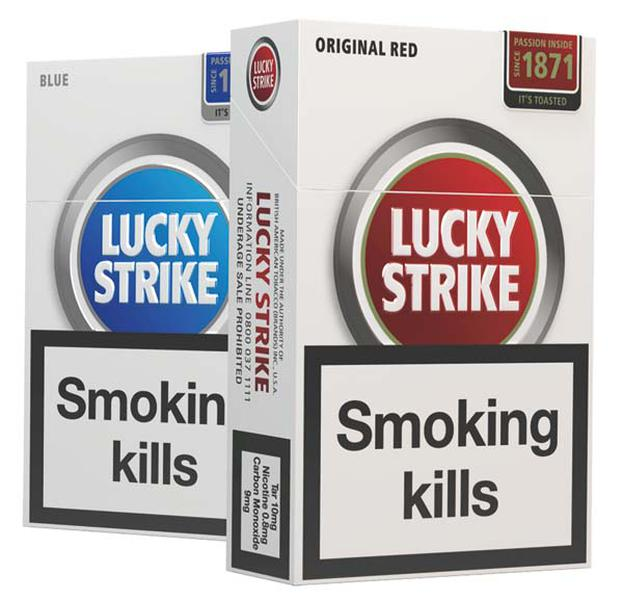lucky_strike_blue: (25, 61, 229, 529)
lucky_strike_red: (297, 36, 589, 564)
